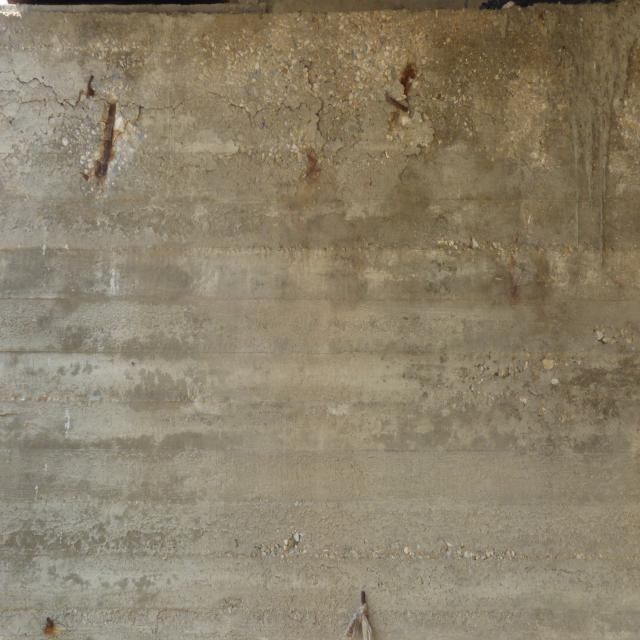corrosion: (264, 55, 616, 328), (50, 57, 132, 194), (34, 600, 67, 640)
